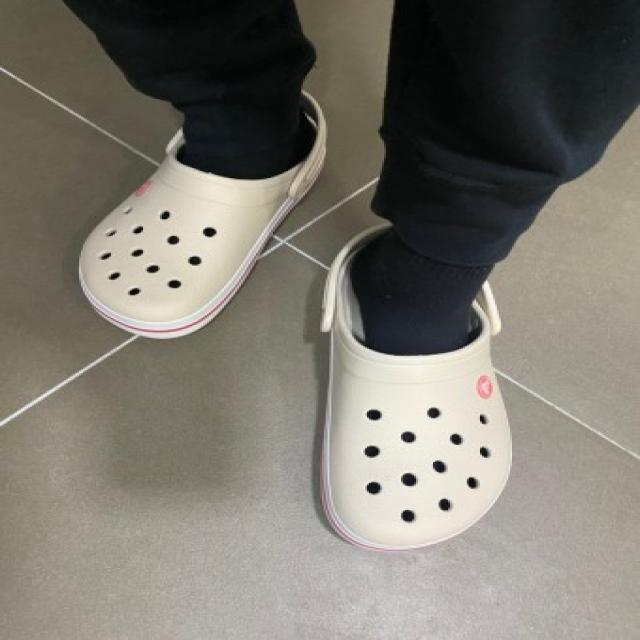no-boots: (230, 270, 572, 574), (90, 115, 320, 372)
